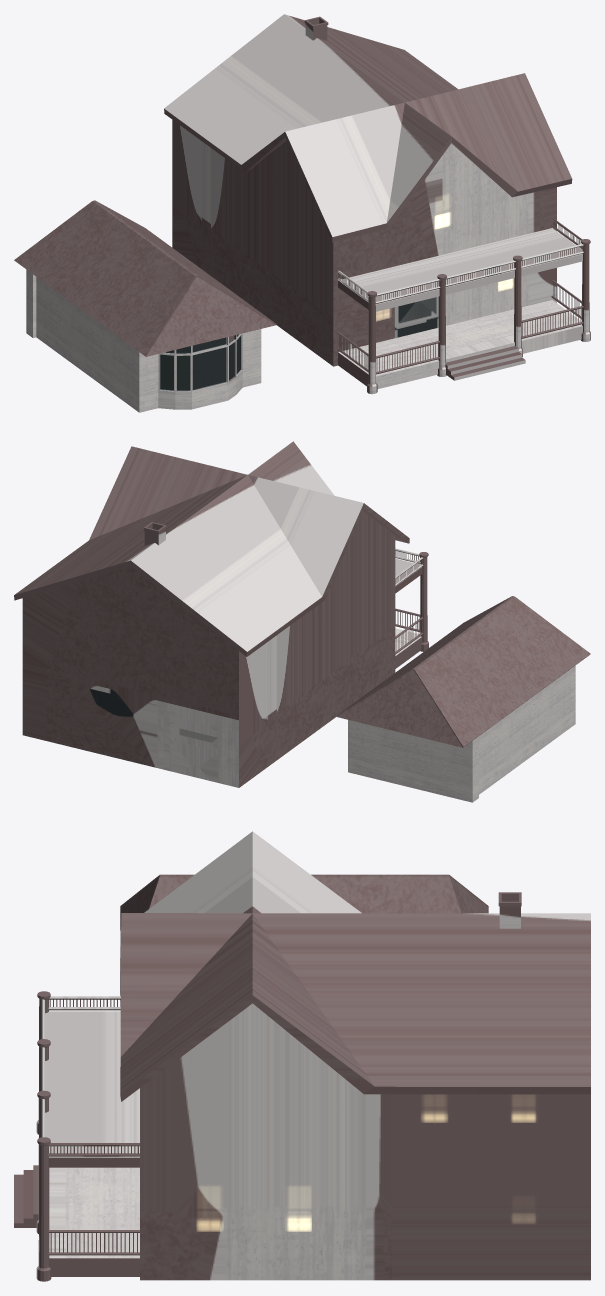
3 renders of one model, top to bottom at view 1: azimuth 30°, elevation 25°; view 2: azimuth 150°, elevation 25°; view 3: azimuth 270°, elevation 25°, orthographic. The views are drawn at different scales.
Visible parts, largest first — view 1: House_1, House_2, House_1_split_3_2, House_1_split_2_2, House_1_split, House_1_split_1, House_1_split_2; view 2: House_1, House_2, House_1_split_3_2; view 3: House_1, House_2, House_1_split_3, House_1_split.
Part boxes in pixels (x1,y1,x2,y2): House_1: (164, 14, 590, 388); House_2: (14, 200, 276, 412); House_1_split_3_2: (367, 291, 377, 394); House_1_split_2_2: (437, 274, 446, 376); House_1_split: (337, 225, 583, 303); House_1_split_1: (513, 255, 522, 356); House_1_split_2: (337, 295, 583, 374); House_1: (14, 441, 423, 787); House_2: (336, 596, 590, 802); House_1_split_3_2: (419, 552, 428, 651); House_1: (14, 831, 590, 1281); House_2: (120, 874, 488, 996); House_1_split_3: (37, 1137, 51, 1281); House_1_split: (48, 1007, 139, 1156).
Bounding box in the file's own units: 18.86 × 9.41 × 15.75.
2 materials, 2 textured.
